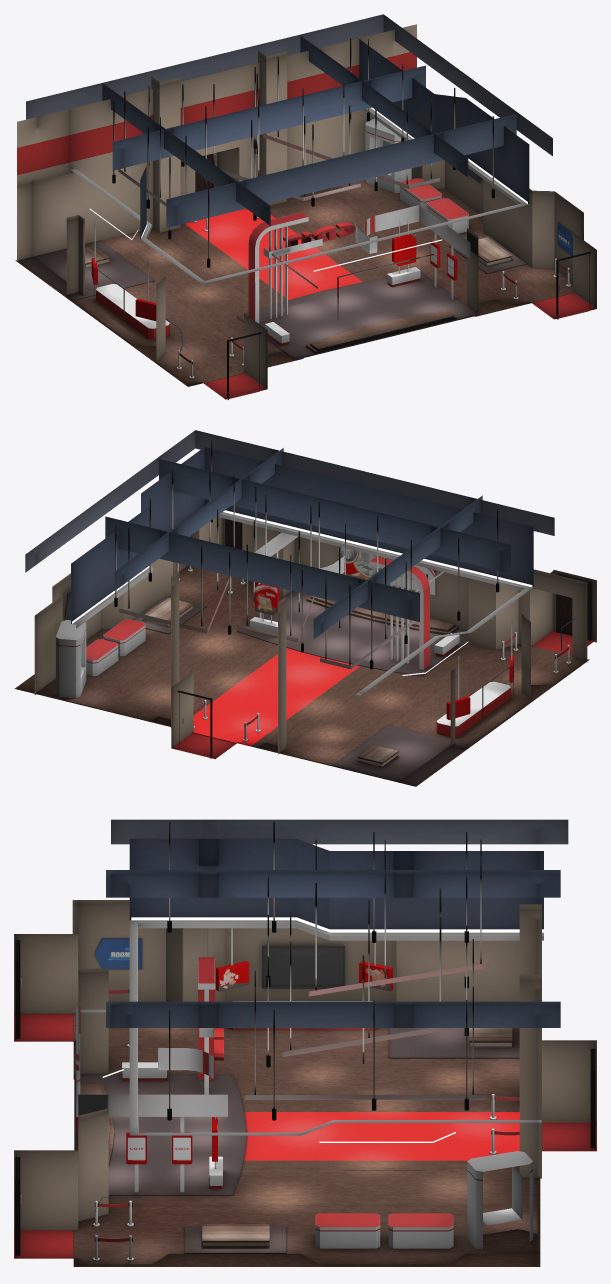
The model's file is room.glb.
3 views of the same model, one above another, from view 1: azimuth 30°, elevation 25°; view 2: azimuth 150°, elevation 25°; view 3: azimuth 270°, elevation 25° (orthographic). The views are drawn at different scales.
Parts seen in each view (by area): view 1: floor, polySurface121, polySurface189, polySurface172, polySurface167, polySurface188, polySurface115, polySurface357, polySurface114, polySurface191, polySurface190, polySurface164 (+16 smaller); view 2: floor, polySurface357, polySurface114, polySurface189, polySurface172, polySurface188, polySurface167, polySurface115, polySurface164, polySurface356, polySurface191, polySurface190 (+19 smaller); view 3: floor, polySurface113, polySurface357, polySurface114, polySurface191, polySurface190, polySurface167, polySurface172, polySurface356, polySurface121, polySurface136, polySurface119 (+23 smaller).
Part boxes in pixels (x1,y1,x2,y2): floor: (15,179,574,386); polySurface121: (17,24,416,261); polySurface189: (166,114,516,227); polySurface172: (26,14,552,156); polySurface167: (237,272,479,359); polySurface188: (112,65,425,170); polySurface115: (411,160,583,282); polySurface357: (140,38,529,238); polySurface114: (203,228,596,399); polySurface191: (102,83,270,225); polySurface190: (300,35,468,177); polySurface164: (19,240,154,300); floor: (15,565,589,786); polySurface357: (71,447,533,623); polySurface114: (190,516,595,662); polySurface189: (159,459,510,573); polySurface172: (25,430,554,572); polySurface188: (105,516,419,621); polySurface167: (237,591,468,676); polySurface115: (34,536,190,694); polySurface164: (332,724,469,785); polySurface356: (71,512,533,695); polySurface191: (313,495,482,638); polySurface190: (114,448,283,590); floor: (73,1013,540,1266); polySurface113: (72,900,519,1001); polySurface357: (129,838,543,929); polySurface114: (14,934,108,1258); polySurface191: (106,870,560,897); polySurface190: (106,1001,560,1027); polySurface167: (74,1074,246,1195); polySurface172: (111,819,568,844); polySurface356: (129,920,543,1135); polySurface121: (542,1040,596,1151); polySurface136: (76,1048,227,1116); polySurface119: (519,974,541,1178).
Bounding box in the file's own units: 2004 × 796 × 1870.
6 materials, 5 textured.
